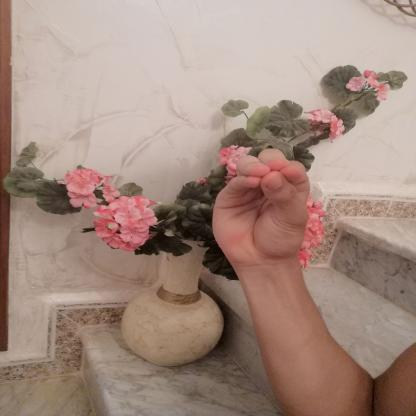HA: (198, 137, 326, 283)
